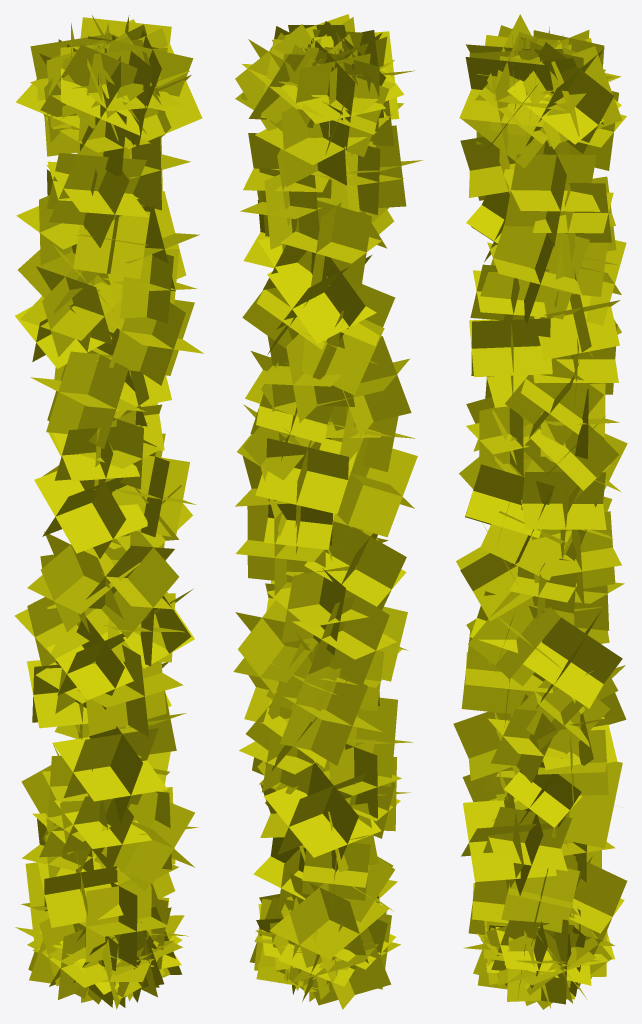
File: vines.obj
The picture shows the model from 3 angles, left to right: view 1: azimuth 30°, elevation 25°; view 2: azimuth 150°, elevation 25°; view 3: azimuth 270°, elevation 25°; orthographic projection.
Parts seen in each view (by area): view 1: Plane.055_Plane.003, Plane.008_Plane.003, Plane.014_Plane.003, Plane.060_Plane.003, Plane.056_Plane.003, Plane.004_Plane.003, Plane.013_Plane.003, Plane.041_Plane.003, Plane.059_Plane.003, Plane.058_Plane.003, Plane.062_Plane.003, Plane.094_Plane.003 (+53 smaller); view 2: Plane.034_Plane.003, Plane.032_Plane.003, Plane.019_Plane.003, Plane.024_Plane.003, Plane.013_Plane.003, Plane.014_Plane.003, Plane.033_Plane.003, Plane.017_Plane.003, Plane.026_Plane.003, Plane.023_Plane.003, Plane.038_Plane.003, Plane.029_Plane.003 (+52 smaller); view 3: Plane.050_Plane.003, Plane.039_Plane.003, Plane.038_Plane.003, Plane.041_Plane.003, Plane.046_Plane.003, Plane.040_Plane.003, Plane.049_Plane.003, Plane.096_Plane.003, Plane.062_Plane.003, Plane.043_Plane.003, Plane.086_Plane.003, Plane.036_Plane.003 (+54 smaller).
Part boxes in pixels (x1,y1,x2,y2): Plane.055_Plane.003: [52, 726, 167, 823]; Plane.008_Plane.003: [30, 350, 145, 448]; Plane.014_Plane.003: [34, 471, 147, 558]; Plane.060_Plane.003: [46, 154, 149, 248]; Plane.056_Plane.003: [84, 531, 178, 638]; Plane.004_Plane.003: [20, 266, 116, 356]; Plane.013_Plane.003: [27, 531, 140, 631]; Plane.041_Plane.003: [105, 299, 203, 385]; Plane.059_Plane.003: [77, 645, 183, 736]; Plane.058_Plane.003: [79, 882, 169, 967]; Plane.062_Plane.003: [94, 791, 194, 891]; Plane.094_Plane.003: [40, 44, 158, 151]; Plane.034_Plane.003: [264, 761, 381, 871]; Plane.032_Plane.003: [269, 873, 389, 974]; Plane.019_Plane.003: [271, 664, 382, 765]; Plane.024_Plane.003: [255, 421, 357, 527]; Plane.013_Plane.003: [304, 521, 406, 609]; Plane.014_Plane.003: [333, 433, 417, 537]; Plane.033_Plane.003: [280, 200, 381, 287]; Plane.017_Plane.003: [292, 589, 396, 685]; Plane.026_Plane.003: [255, 102, 376, 186]; Plane.023_Plane.003: [267, 255, 376, 343]; Plane.038_Plane.003: [233, 600, 317, 694]; Plane.029_Plane.003: [266, 565, 368, 655]; Plane.050_Plane.003: [480, 223, 589, 324]; Plane.039_Plane.003: [500, 140, 600, 246]; Plane.038_Plane.003: [523, 612, 622, 709]; Plane.041_Plane.003: [469, 318, 552, 402]; Plane.046_Plane.003: [521, 472, 606, 560]; Plane.040_Plane.003: [505, 358, 603, 445]; Plane.049_Plane.003: [468, 591, 573, 686]; Plane.096_Plane.003: [507, 42, 621, 153]; Plane.062_Plane.003: [461, 792, 556, 891]; Plane.043_Plane.003: [483, 806, 572, 895]; Plane.086_Plane.003: [459, 32, 553, 154]; Plane.036_Plane.003: [534, 270, 620, 359].
Bounding box in the file's own units: 18.66 × 116 × 18.9.
